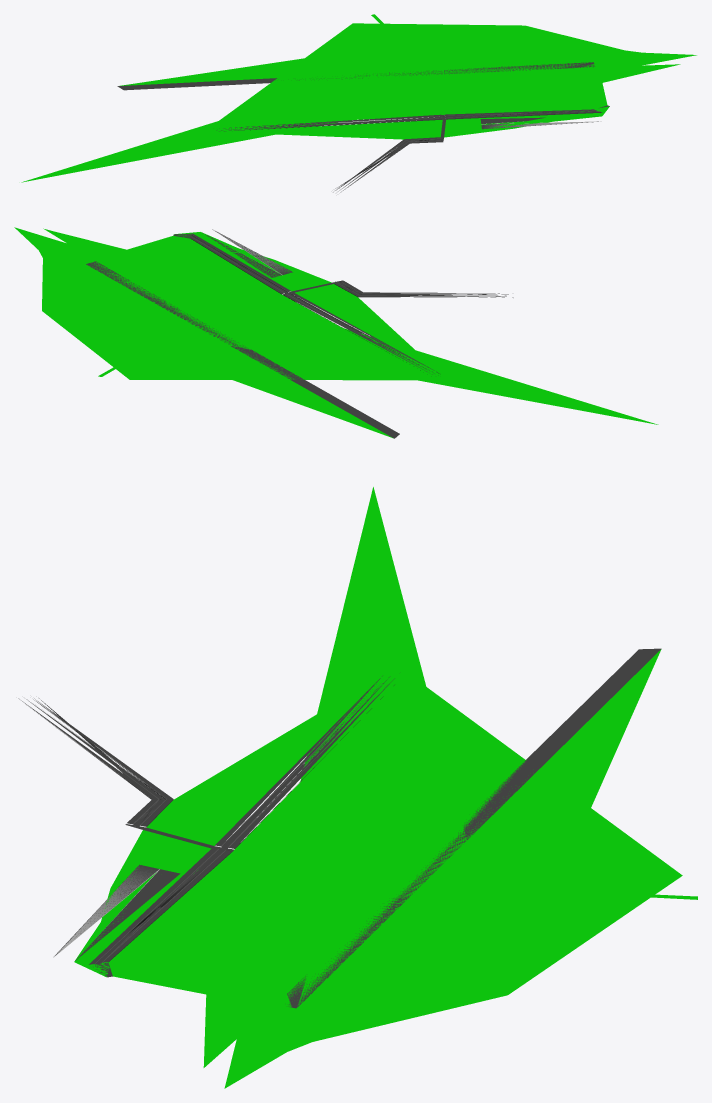
3 views of the same model, one above another, from view 1: azimuth 30°, elevation 25°; view 2: azimuth 150°, elevation 25°; view 3: azimuth 270°, elevation 25° (orthographic). The views are drawn at different scales.
Bounding box in the file's own units: 225 × 0.12 × 105.
